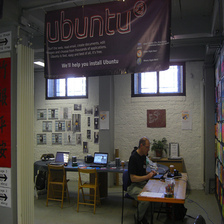laptop: (41, 145, 77, 176), (84, 147, 109, 174)
